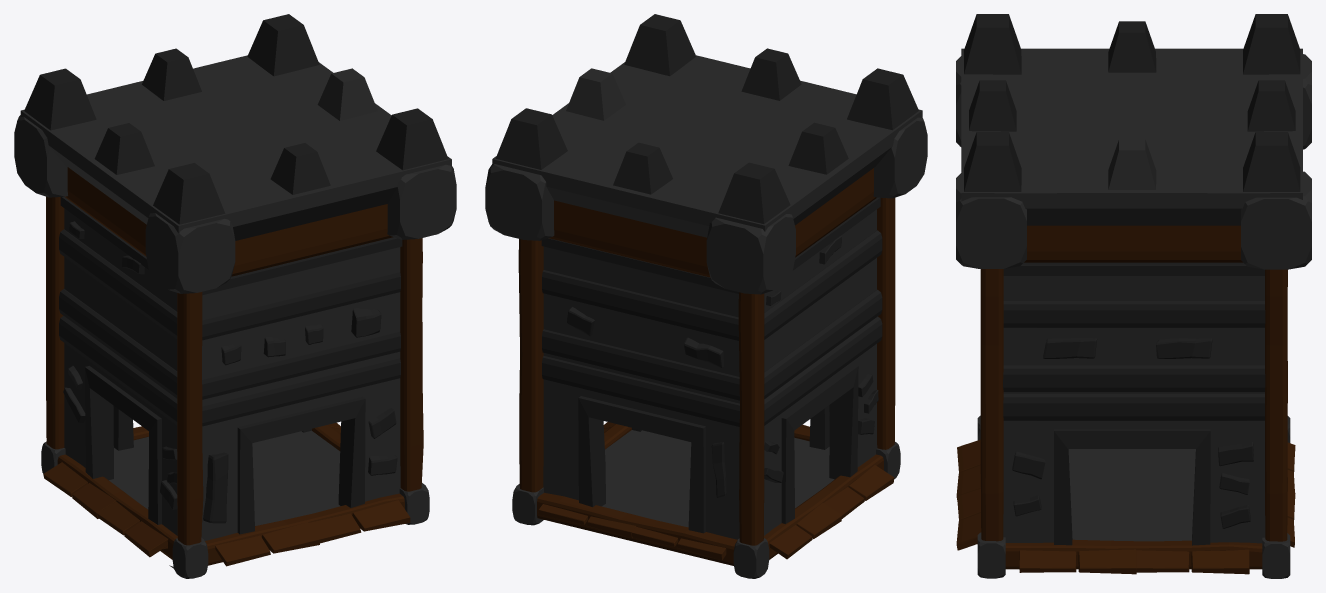
Rendered from WoodenHut_03.fbx.
3 renders of one model, left to right at view 1: azimuth 30°, elevation 25°; view 2: azimuth 150°, elevation 25°; view 3: azimuth 270°, elevation 25°, orthographic. The views are drawn at different scales.
Parts seen in each view (by area): view 1: WoodenHut_03; view 2: WoodenHut_03; view 3: WoodenHut_03.
Part boxes in pixels (x1,y1,x2,y2): WoodenHut_03: (14, 14, 456, 578); WoodenHut_03: (485, 14, 927, 578); WoodenHut_03: (956, 14, 1311, 578).
Size of the model in its own units: 1582 by 2179 by 1616.
